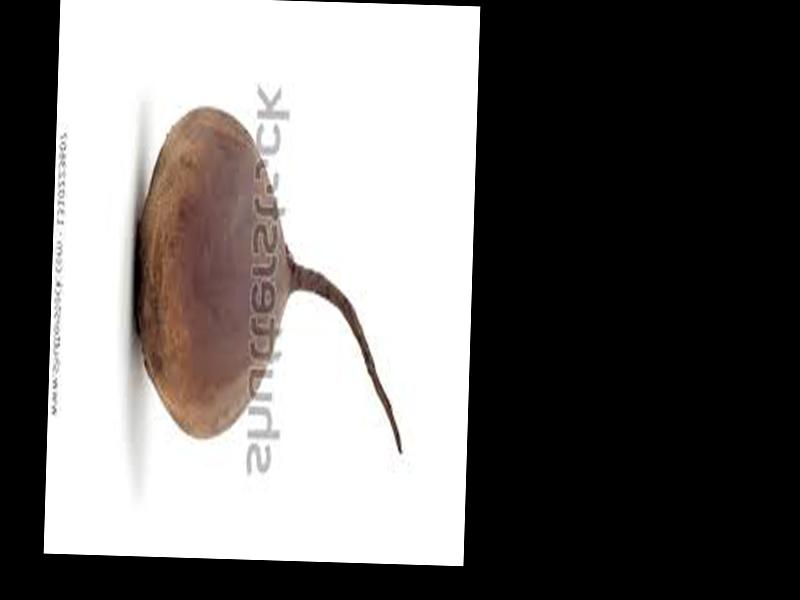Beet: (128, 101, 412, 453)
